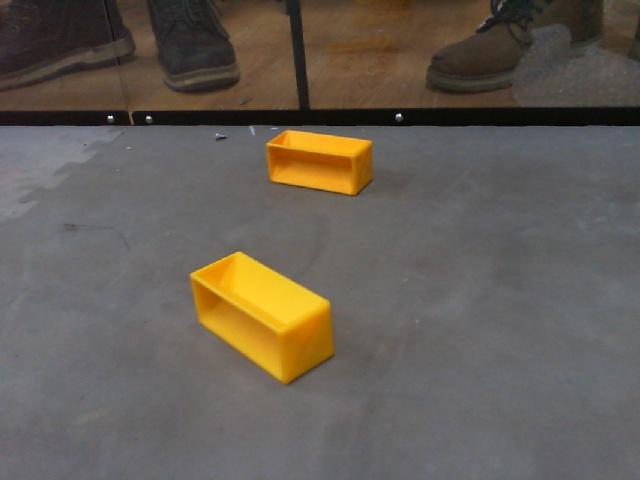YellowSample: (186, 250, 335, 394), (262, 127, 377, 200)
